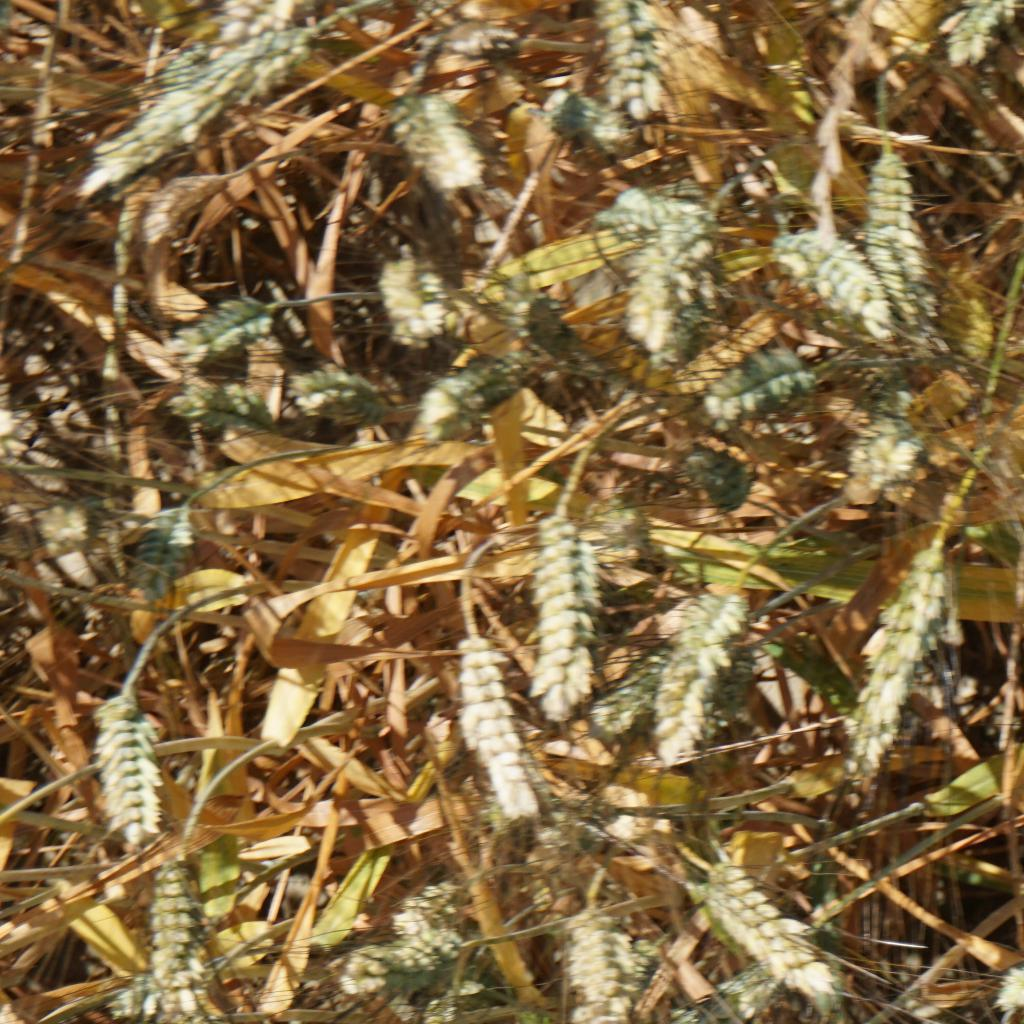0-0: (98, 44, 304, 157), (435, 623, 547, 818), (694, 866, 830, 1005), (870, 540, 962, 743), (766, 212, 899, 341), (855, 141, 950, 310), (532, 507, 609, 706), (657, 577, 733, 749), (81, 694, 169, 841), (626, 229, 695, 354), (391, 101, 486, 191), (336, 925, 456, 995), (558, 913, 631, 1024), (592, 4, 662, 112), (488, 275, 581, 355), (117, 167, 216, 241), (662, 446, 769, 514), (375, 244, 445, 347), (852, 380, 922, 483), (139, 889, 199, 1008), (164, 0, 286, 55), (176, 292, 272, 361), (705, 348, 808, 407), (429, 353, 519, 419), (587, 183, 690, 238), (541, 86, 625, 151), (942, 0, 1024, 65), (391, 883, 480, 940), (168, 373, 267, 423), (275, 365, 379, 412), (131, 502, 192, 582), (97, 963, 181, 1018), (605, 645, 659, 729), (153, 971, 236, 1024), (716, 644, 770, 708)
